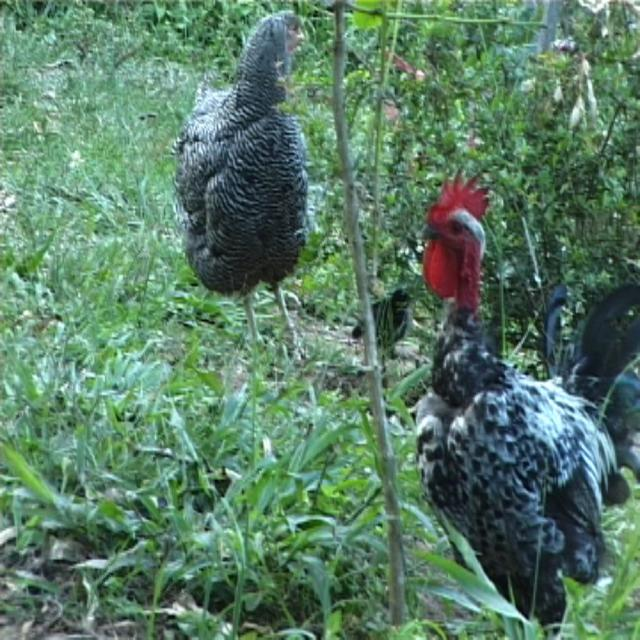Chicken: (416, 165, 640, 640), (168, 5, 312, 345)
